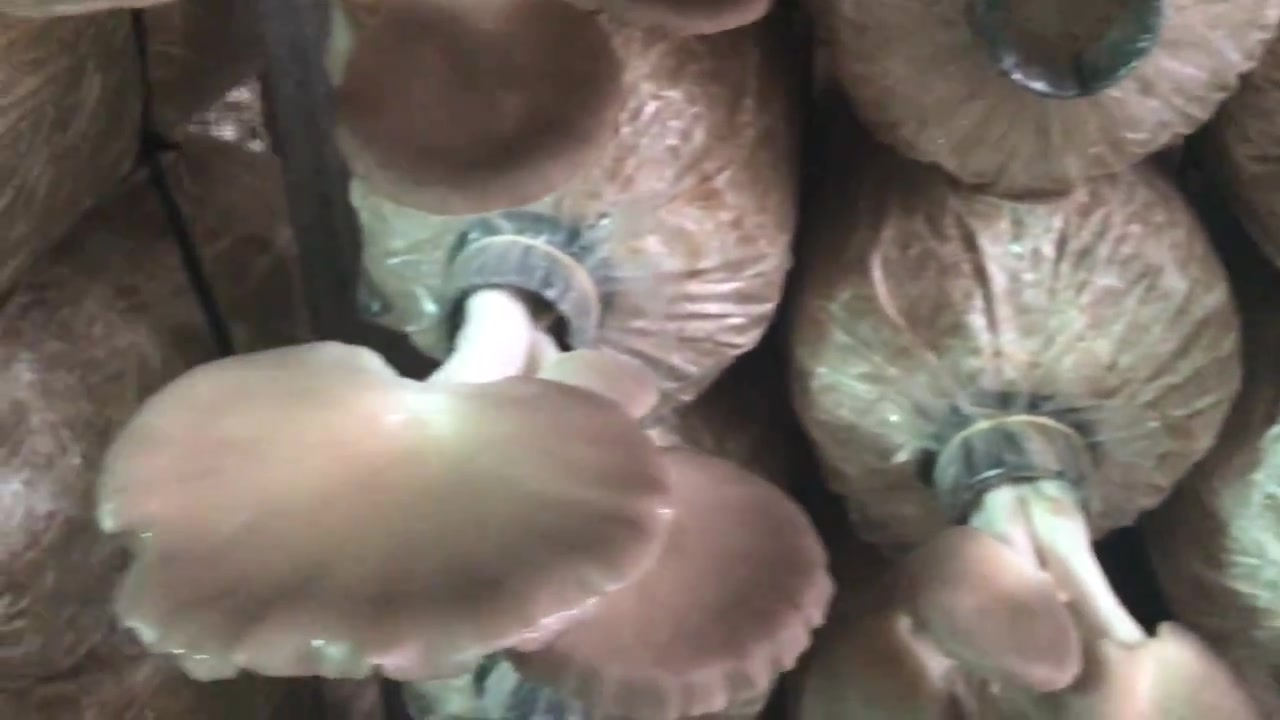nam: (98, 216, 680, 681), (799, 416, 1256, 720), (508, 452, 842, 720), (332, 1, 636, 225)
